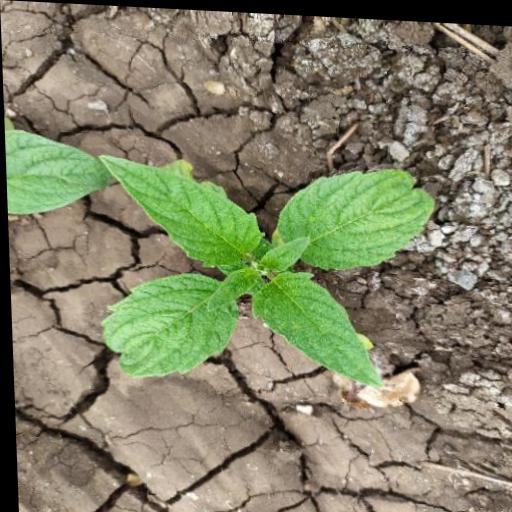crop: (93, 138, 441, 395)
